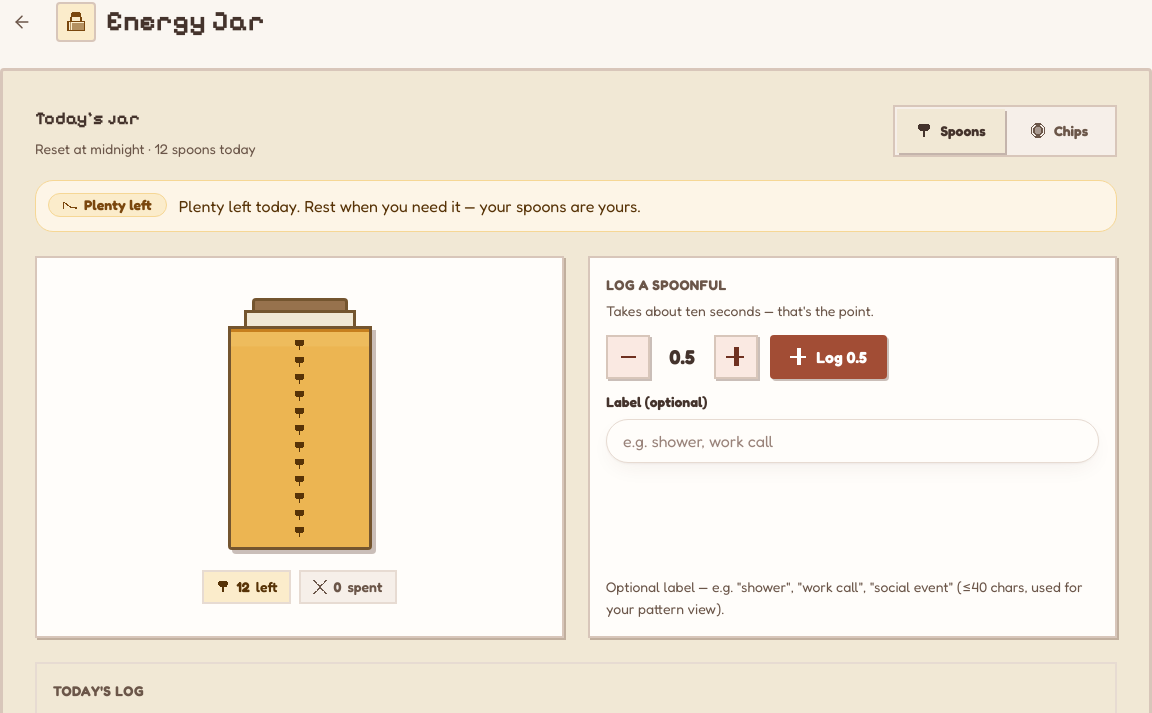
Test: JarScreen › persists a quick-add into the log and the repository
The width and height of the screenshot is (1152, 713).
Click the button named "Increase by 0.5": (736, 357) [714, 335, 758, 379]
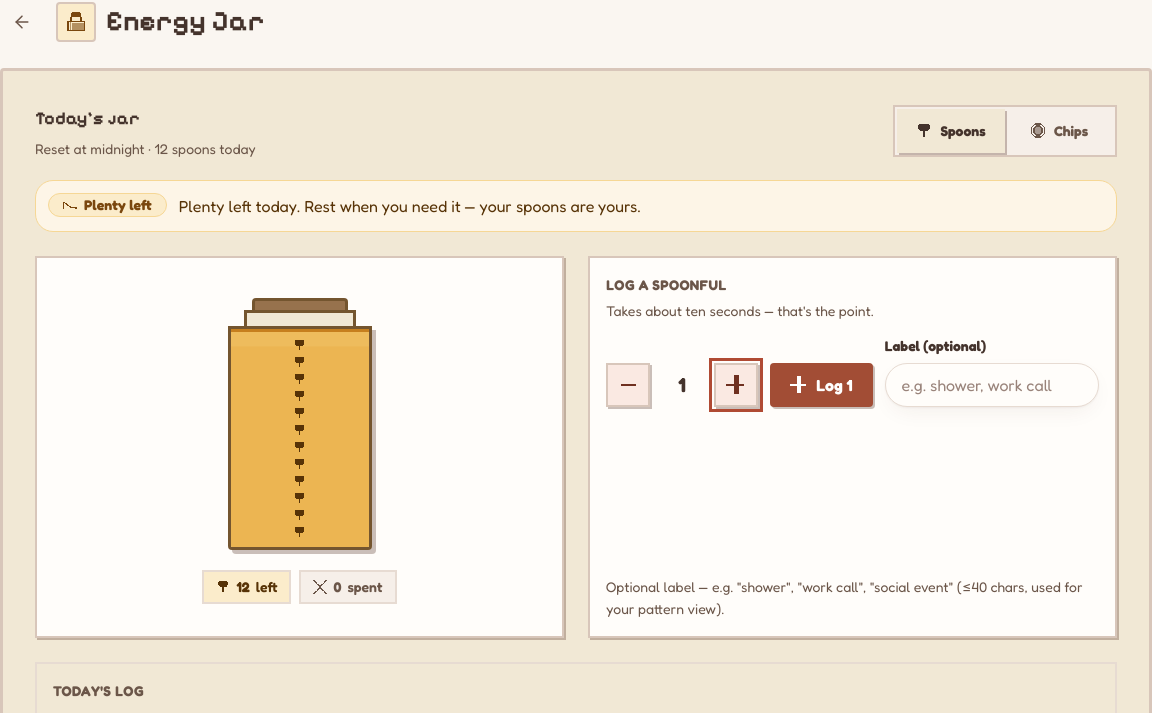
Click the button "Log 1": (821, 385) [770, 363, 873, 407]
(page scrolled)
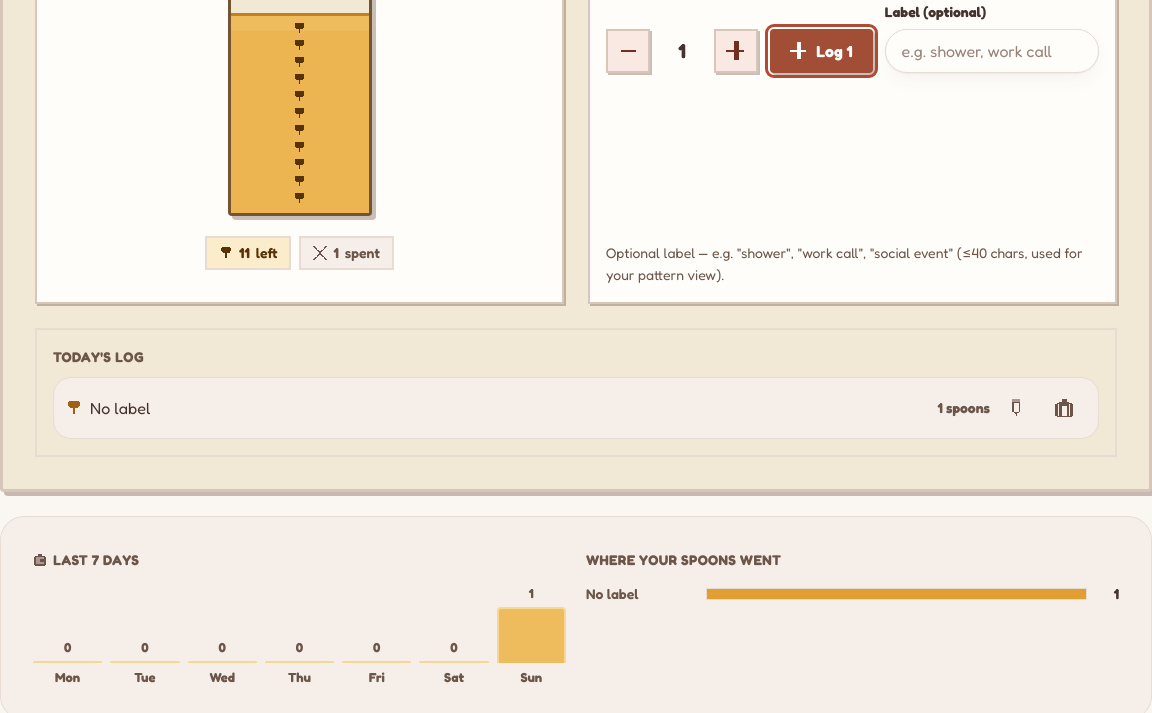
Now the text "1 spoons" is shown, box [938, 386, 1086, 430]
